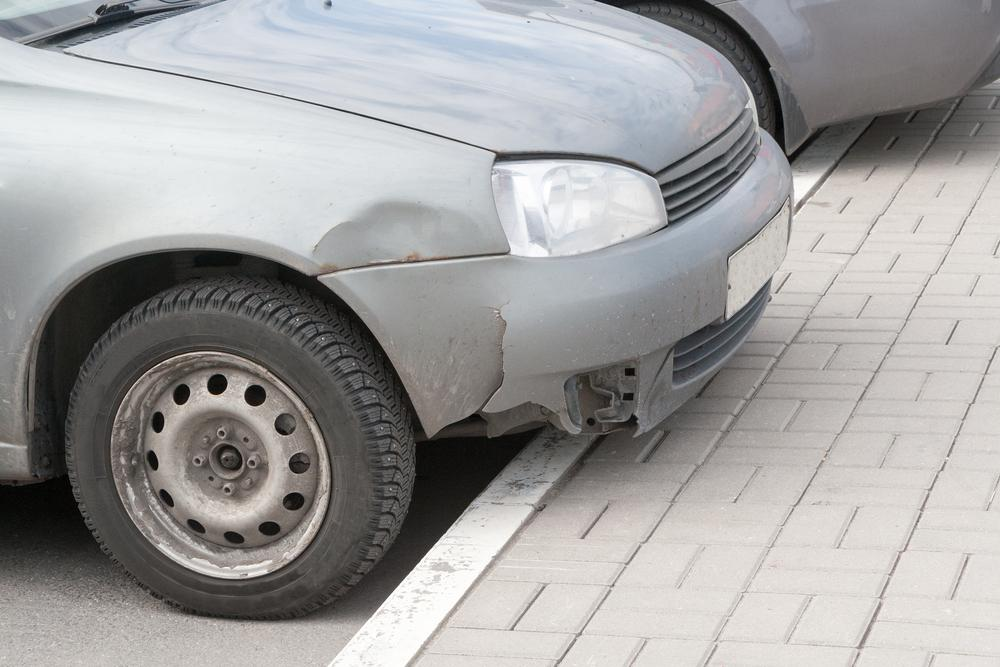crack: (476, 299, 513, 411)
dent: (312, 202, 473, 273)
